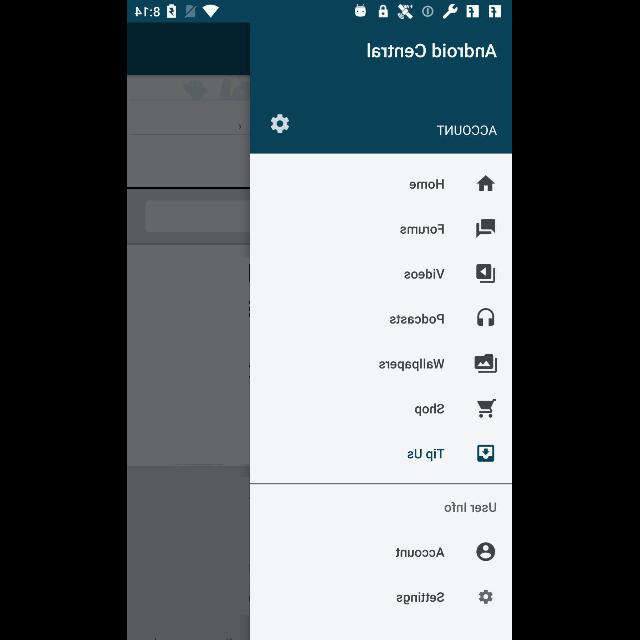icon: (474, 353, 498, 372), (476, 542, 496, 562), (476, 219, 496, 239), (478, 398, 497, 418), (476, 174, 496, 192), (272, 114, 290, 134), (478, 264, 497, 282), (478, 444, 496, 462), (479, 590, 493, 604)
image: (478, 308, 496, 326)
panel: (252, 22, 512, 640)
text: (368, 44, 498, 58), (380, 358, 444, 372), (438, 126, 498, 136), (397, 592, 445, 604), (391, 314, 445, 324), (408, 448, 446, 462), (445, 502, 497, 512), (404, 268, 446, 280), (396, 547, 446, 557), (401, 224, 445, 234), (410, 179, 444, 189), (416, 404, 444, 416)
uppertaskbar: (128, 1, 512, 23)
